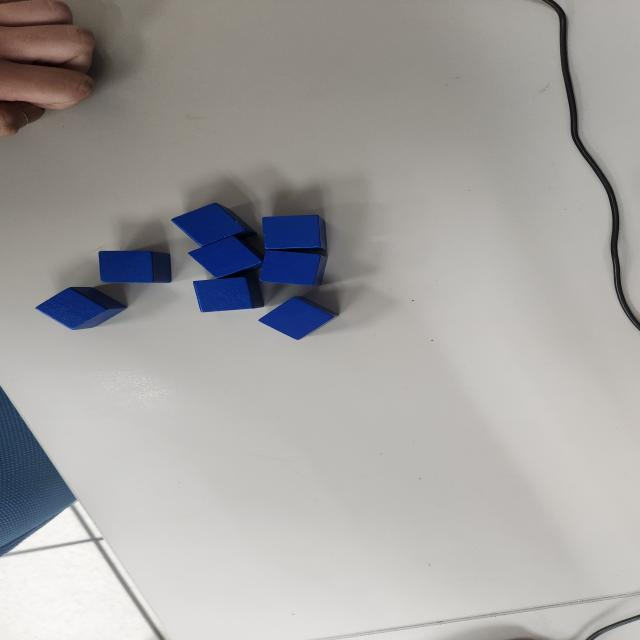blue: (34, 287, 128, 331), (170, 202, 256, 247), (258, 295, 340, 341), (187, 236, 263, 278), (192, 276, 266, 312), (97, 250, 173, 284), (262, 215, 328, 254), (258, 250, 329, 286)
